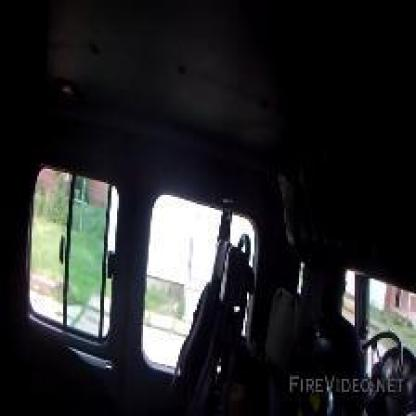other: (153, 199, 194, 276)
